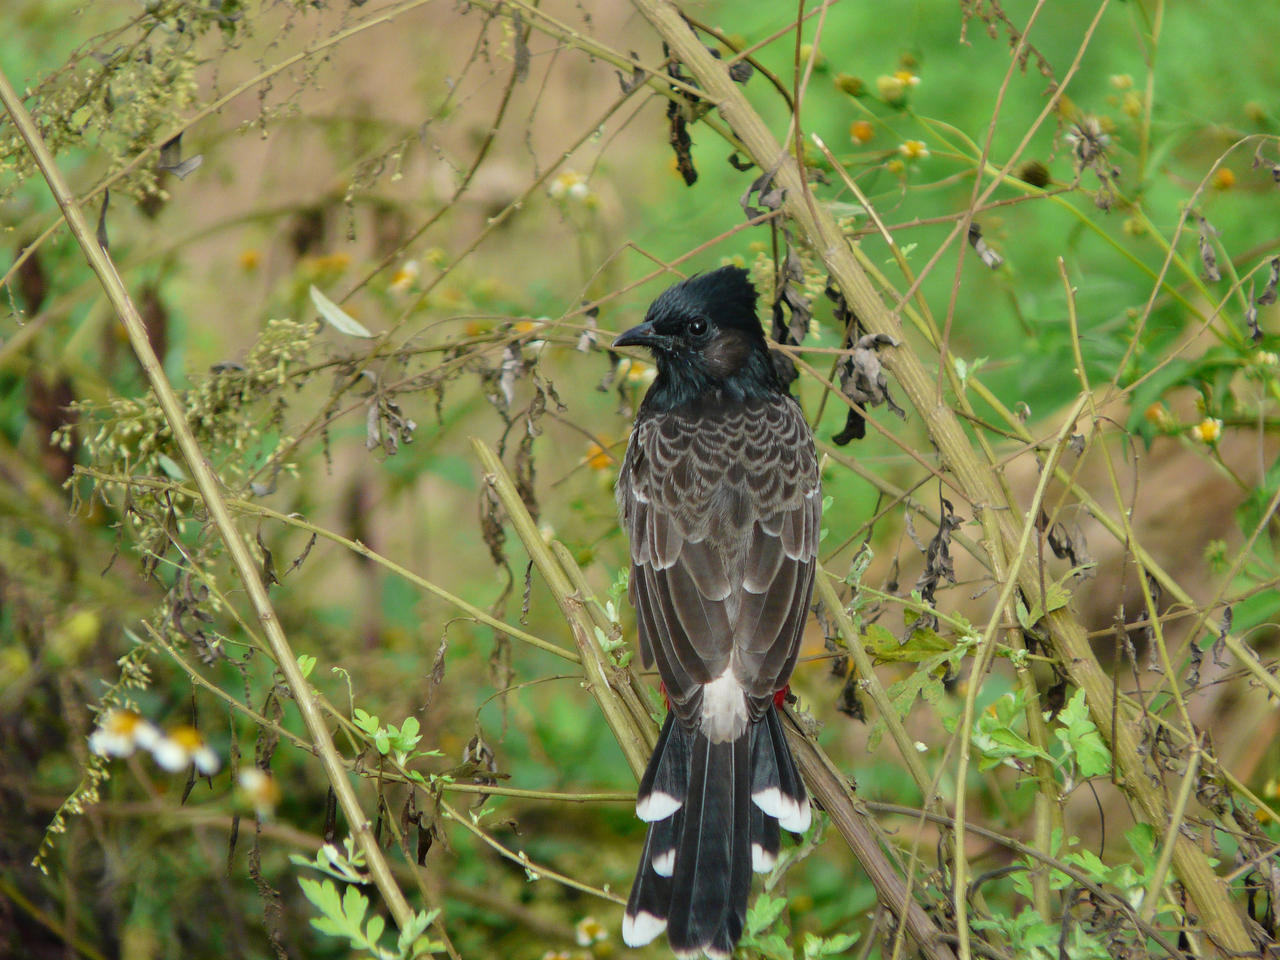bird: (569, 244, 852, 949)
